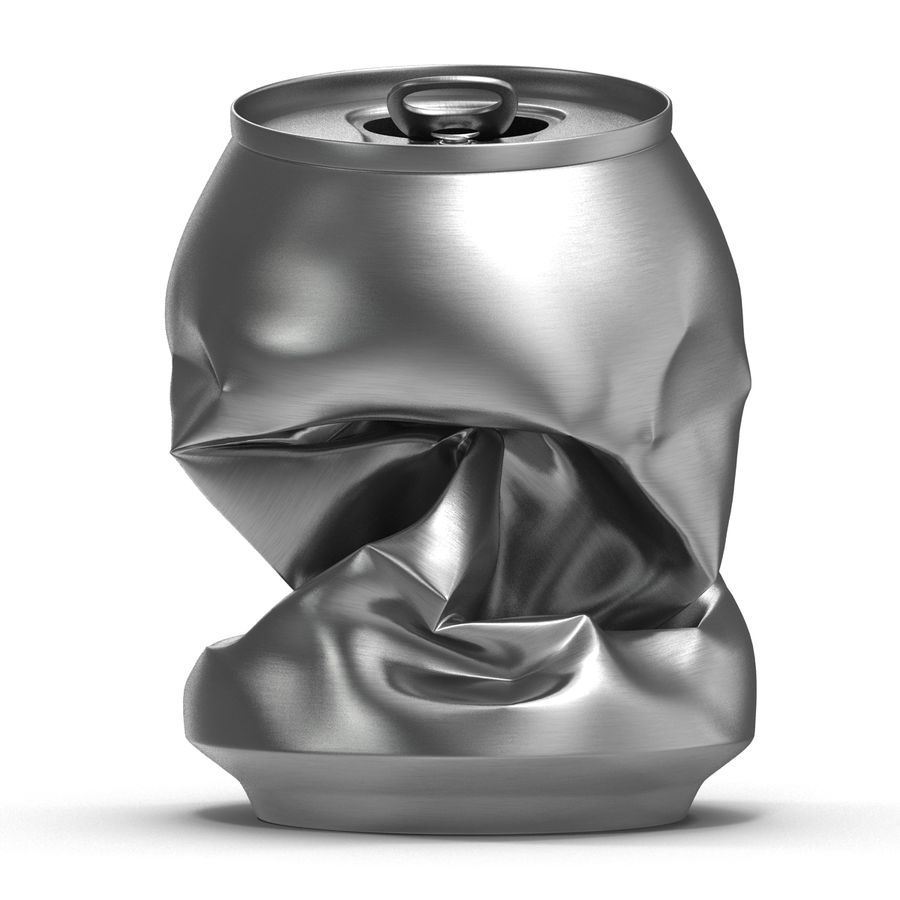can: (162, 62, 760, 842)
